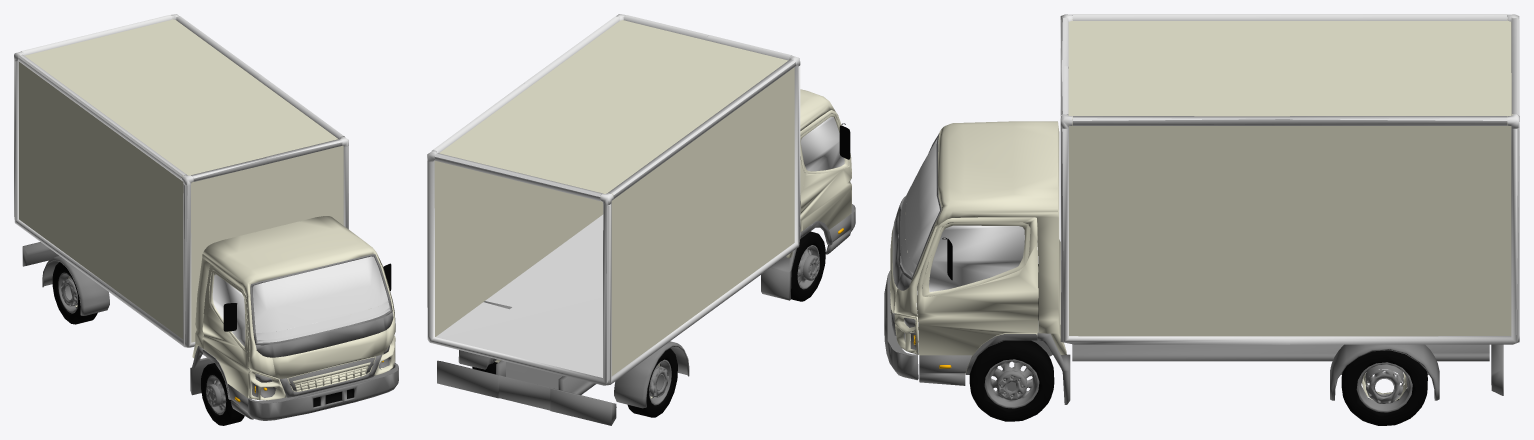
Rendered from SegundoCamion.fbx.
3 views of the same model, side by side, from view 1: azimuth 30°, elevation 25°; view 2: azimuth 150°, elevation 25°; view 3: azimuth 270°, elevation 25° (orthographic). The views are drawn at different scales.
Parts seen in each view (by area): view 1: Object_70, Object_70.002, Object_70.001, Object_70.004, Object_70.006; view 2: Object_70, Object_70.001, Object_70.002, Object_70.006, Object_70.004; view 3: Object_70, Object_70.002, Object_70.001, Object_70.004, Object_70.006.
Boxes of the visible parts, x1,y1,x2,y2 form: Object_70: (19,19,395,400); Object_70.002: (22,242,398,420); Object_70.001: (14,14,348,347); Object_70.004: (212,256,389,346); Object_70.006: (52,262,391,425); Object_70: (434,20,851,398); Object_70.001: (427,14,800,385); Object_70.002: (437,204,855,425); Object_70.006: (472,123,850,417); Object_70.004: (801,116,844,171); Object_70: (890,19,1513,400); Object_70.002: (884,133,1503,412); Object_70.001: (1060,14,1519,344); Object_70.004: (900,138,1024,291); Object_70.006: (942,237,1427,425).
Size of the model in its own units: 1753 by 2321 by 4295.
